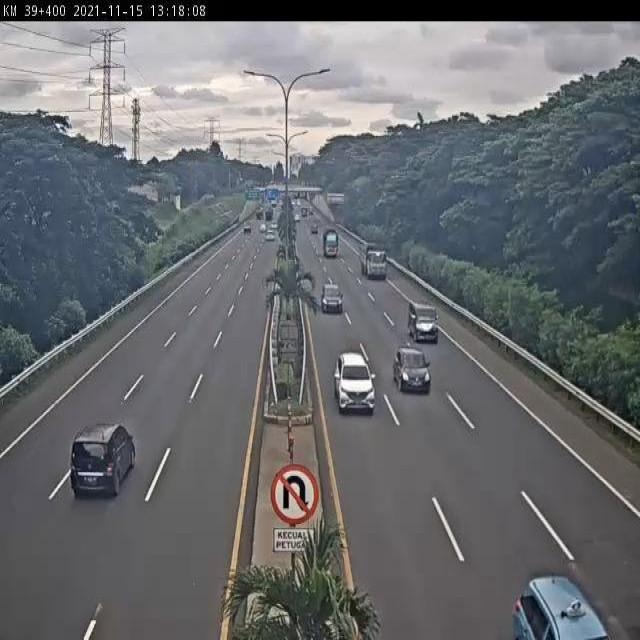car: (69, 418, 137, 498), (334, 352, 375, 412), (393, 347, 432, 393), (407, 300, 441, 344), (321, 282, 344, 314)
truck-m-: (358, 243, 387, 280)
